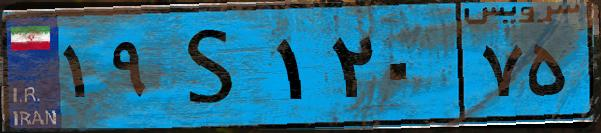0: (385, 28, 445, 110)
1: (270, 28, 330, 110), (57, 26, 110, 100)
2: (330, 28, 385, 110)
5: (525, 38, 570, 115)
7: (475, 38, 525, 113)
9: (110, 28, 158, 98)
S: (158, 12, 270, 120)
